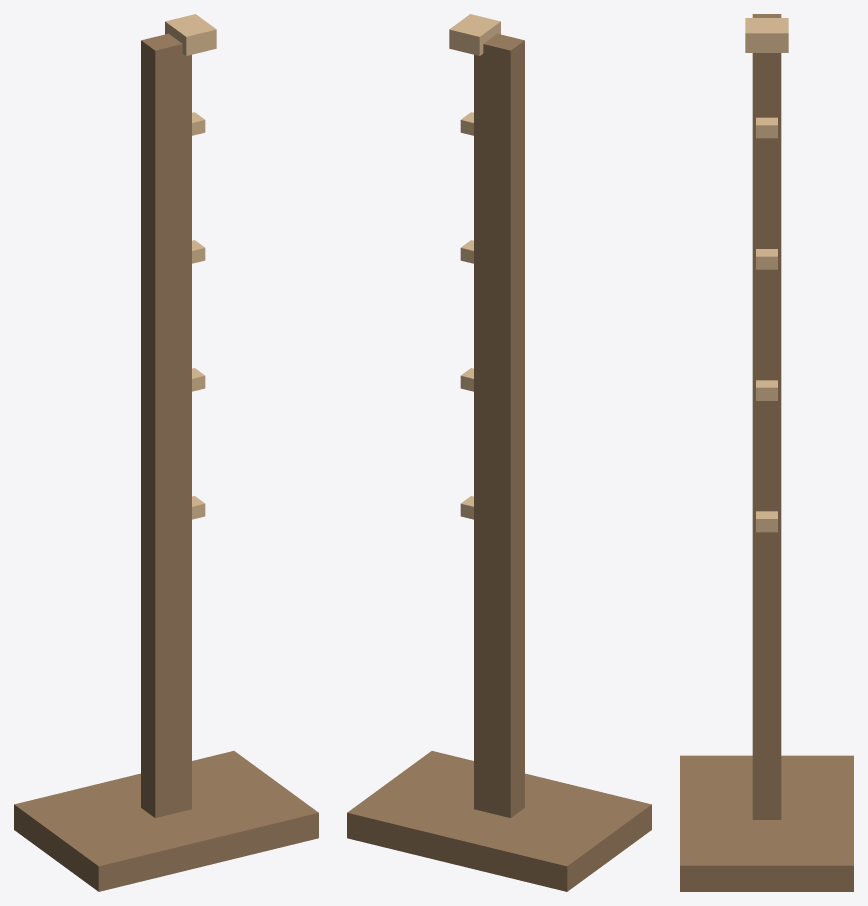
File: prop-tillering-stick.fbx
3 views of the same model, side by side, from view 1: azimuth 30°, elevation 25°; view 2: azimuth 150°, elevation 25°; view 3: azimuth 270°, elevation 25° (orthographic). The views are drawn at different scales.
Parts seen in each view (by area): view 1: prop-tillering-stick; view 2: prop-tillering-stick; view 3: prop-tillering-stick.
Boxes of the visible parts, <box> form: prop-tillering-stick: <box>14,14,318,891</box>; prop-tillering-stick: <box>347,14,651,891</box>; prop-tillering-stick: <box>680,14,853,891</box>.
Size of the model in its own units: 36 by 126 by 24.
